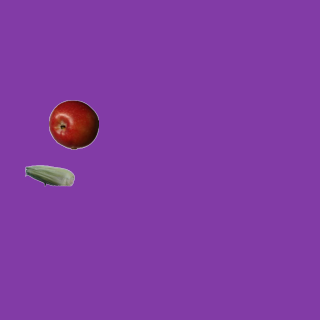Apple Braeburn: (48, 99, 98, 149)
Corn Husk: (24, 150, 74, 200)
